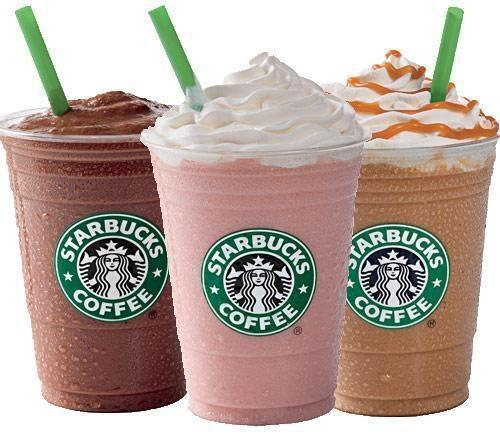cup-disposable: (140, 55, 367, 428), (1, 84, 186, 413), (334, 63, 499, 423)
